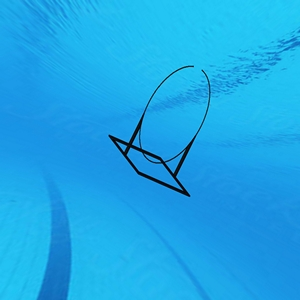circle: (107, 63, 213, 200)
